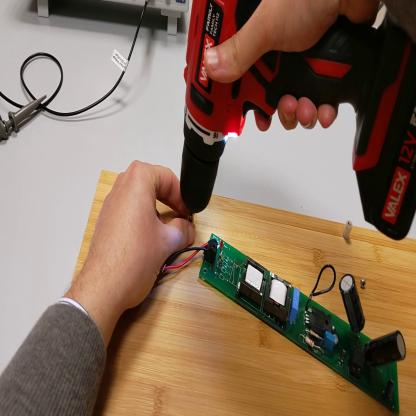electric screwdriver: (179, 2, 416, 242)
hand: (202, 2, 376, 136), (88, 161, 194, 313)
high voltage board: (161, 226, 408, 415)
oscilloscope: (28, 1, 192, 36)
oscilloscope probe tip: (2, 91, 47, 146)
working area: (70, 170, 416, 415)
